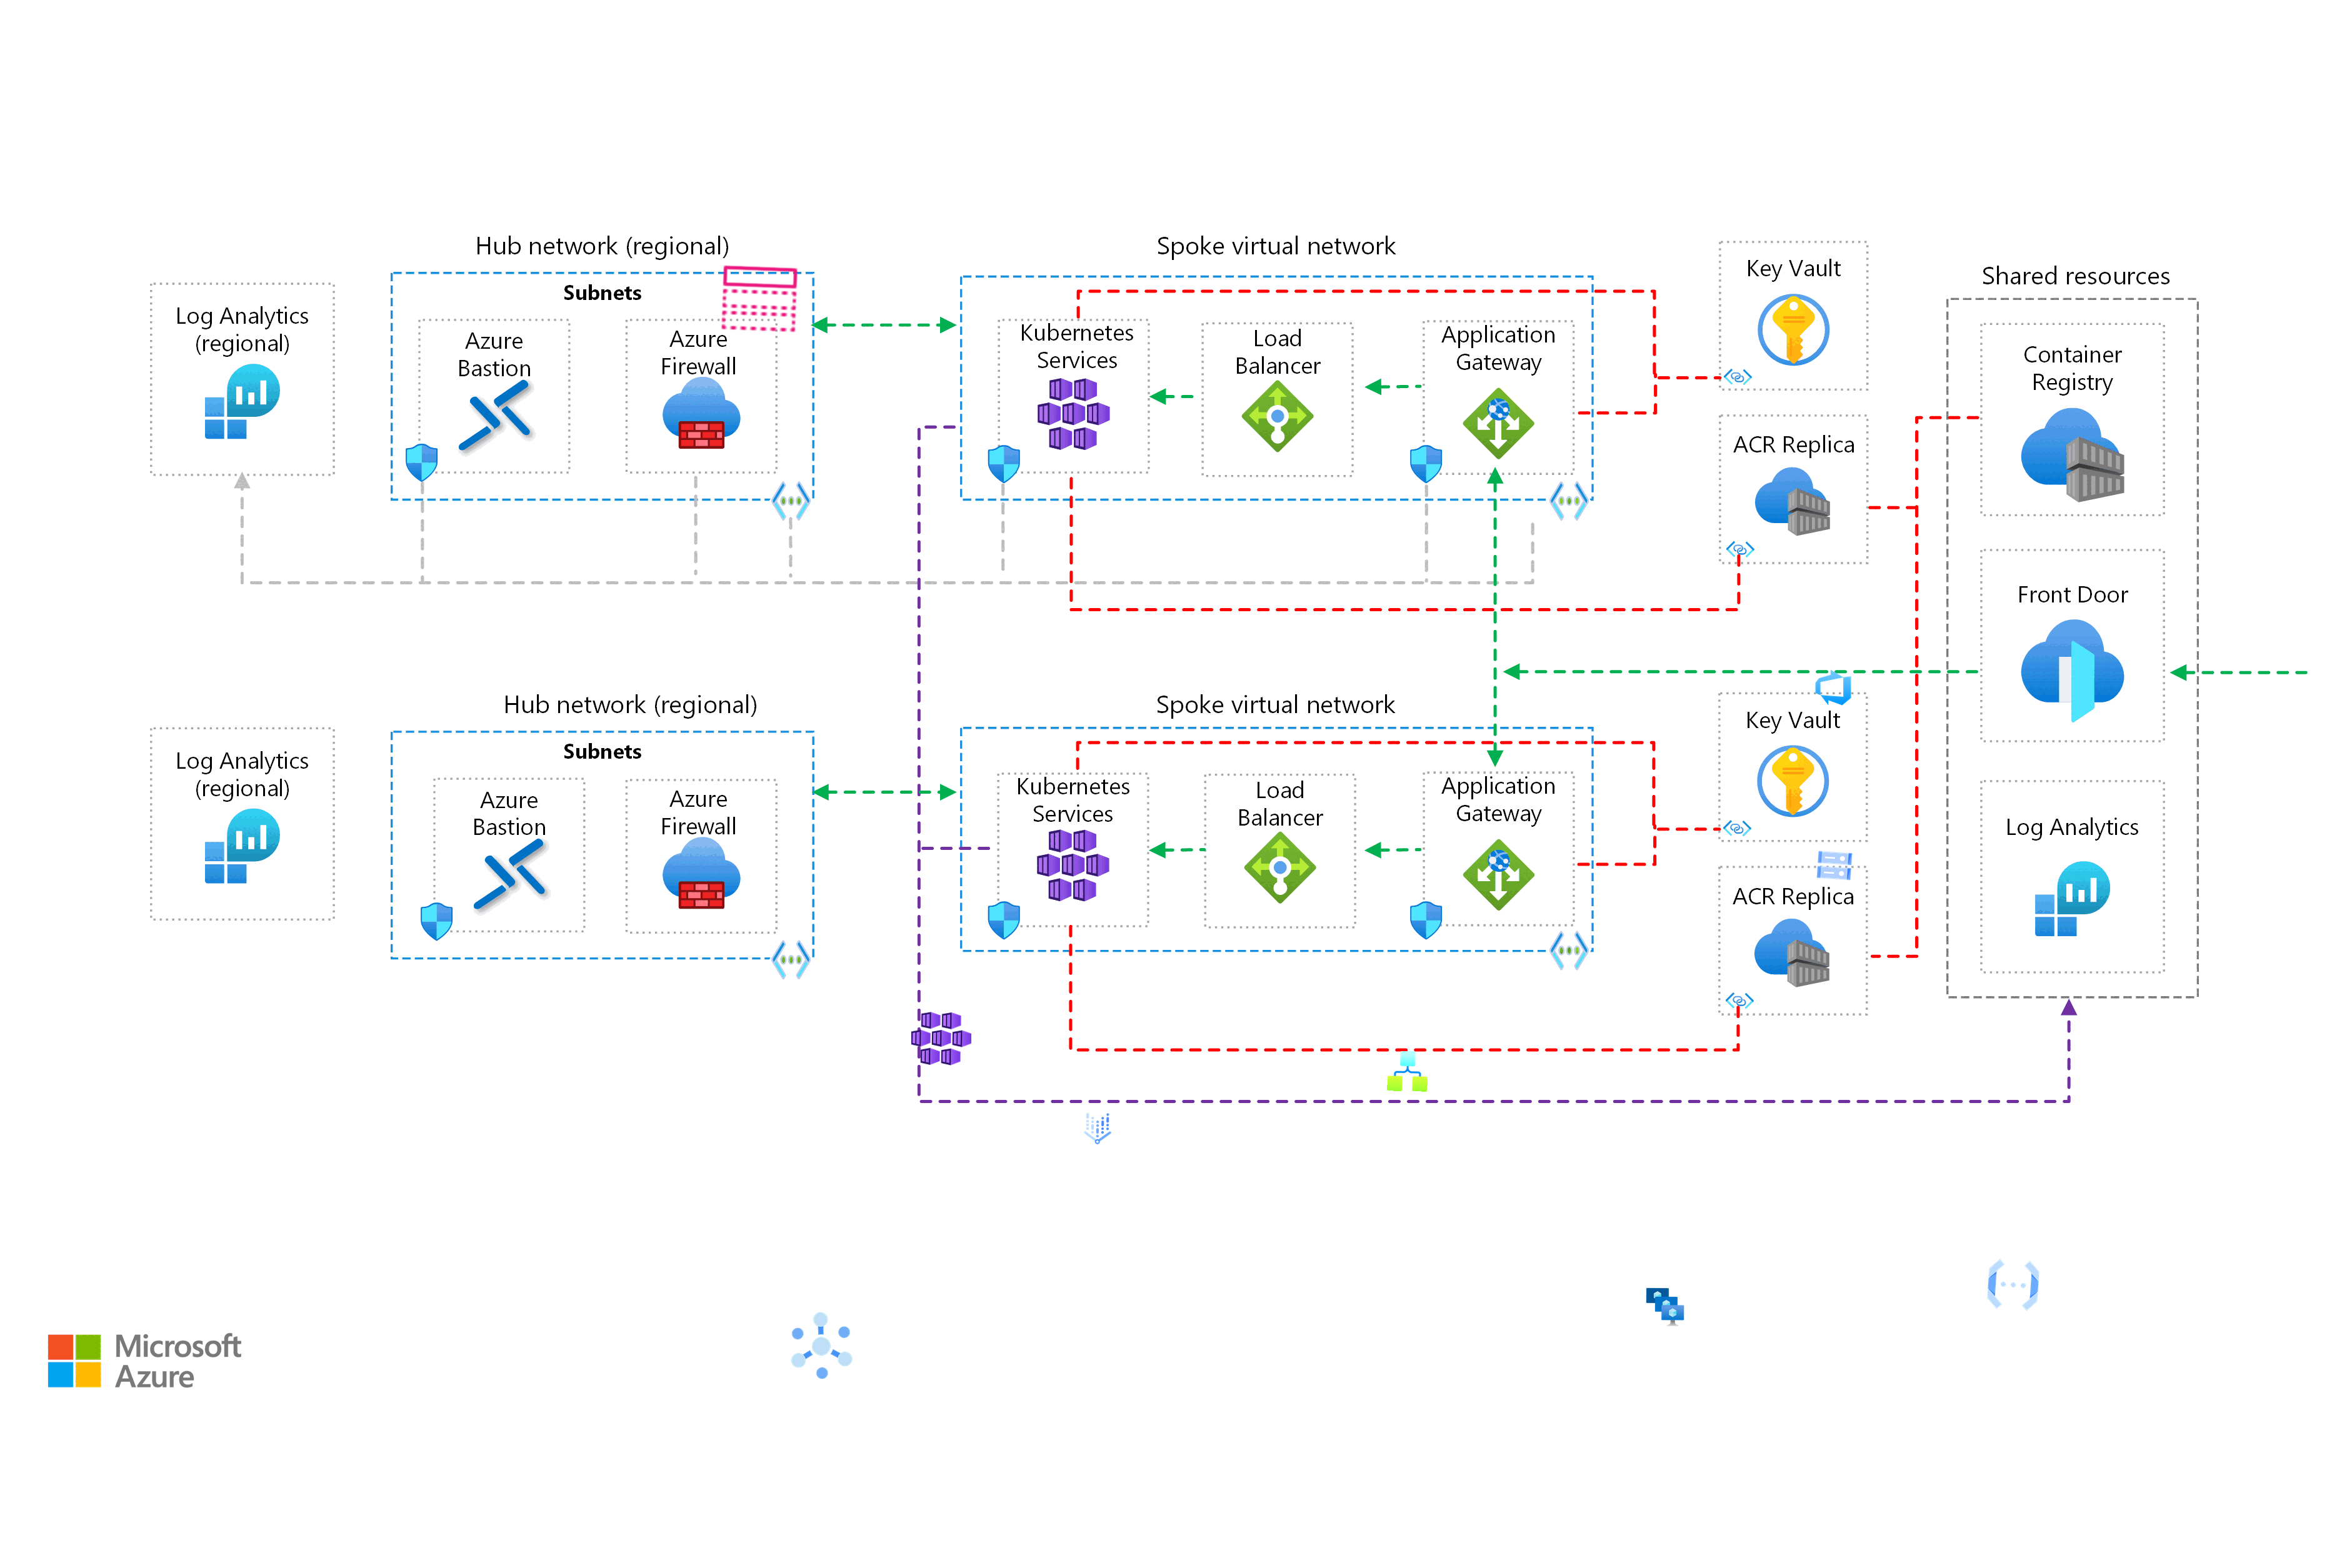aws_simple_notification_service_topic: (717, 257, 802, 341)
azure_devops: (1813, 667, 1853, 709)
azure_kubernetes_services: (910, 1008, 971, 1069)
azure_logic_apps: (1388, 1050, 1428, 1092)
azure_vm_scale_sets: (1643, 1286, 1685, 1326)
gcp_cloud_functions: (1981, 1253, 2046, 1318)
gcp_cloud_storage: (1813, 843, 1857, 887)
gcp_pubsub: (780, 1304, 863, 1386)
gcp_vertex_ai: (1076, 1108, 1118, 1150)
